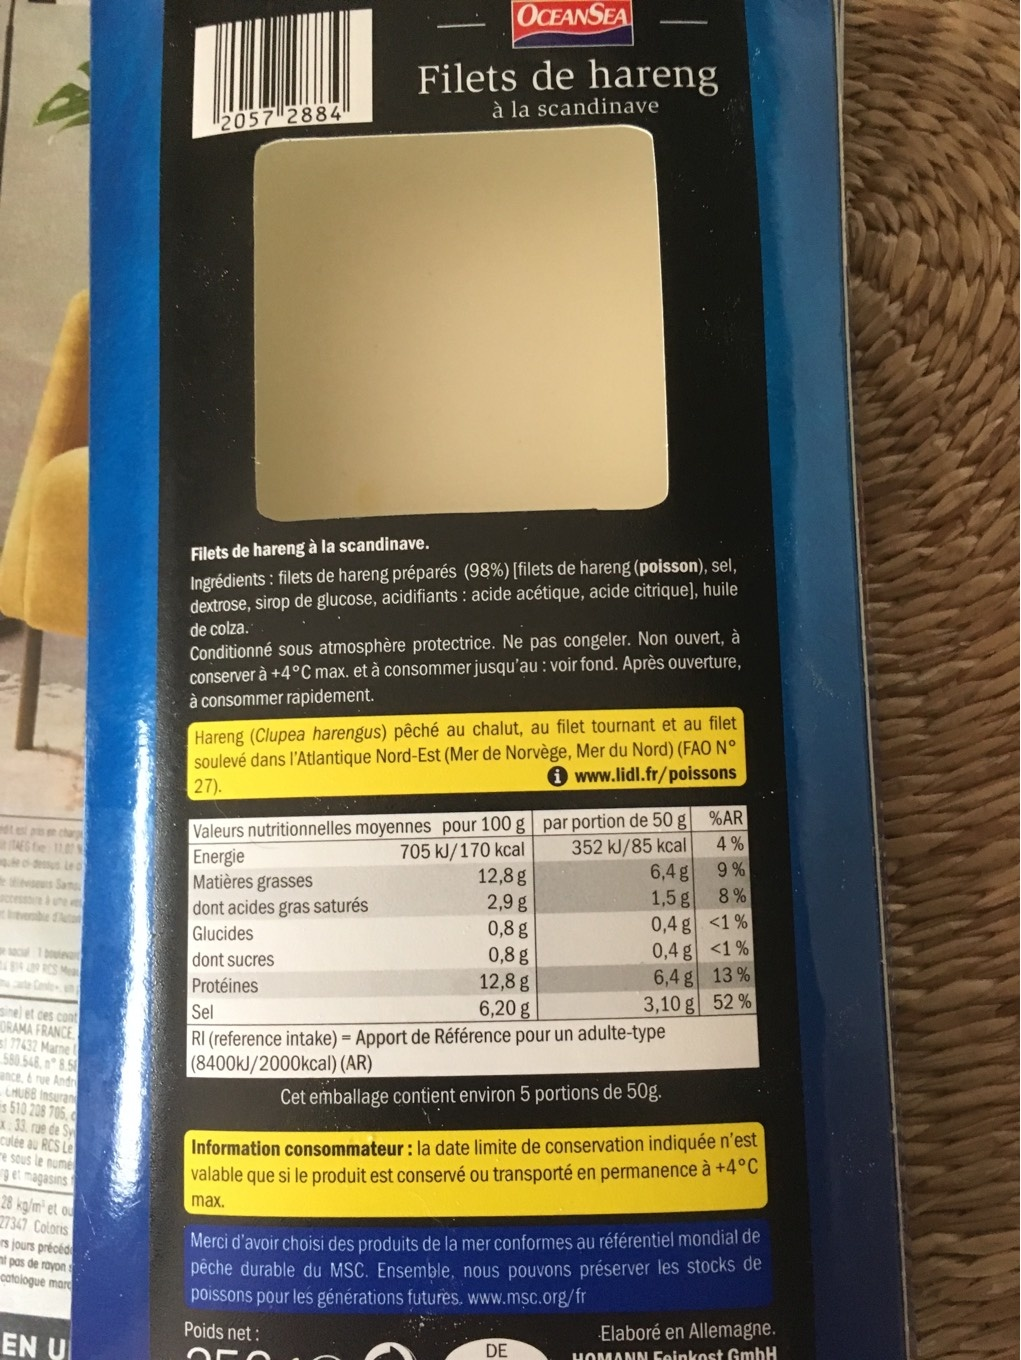column: (539, 812, 692, 1018), (190, 849, 368, 1023), (402, 841, 529, 1017), (702, 809, 752, 1011)
table: (181, 805, 753, 1028)
